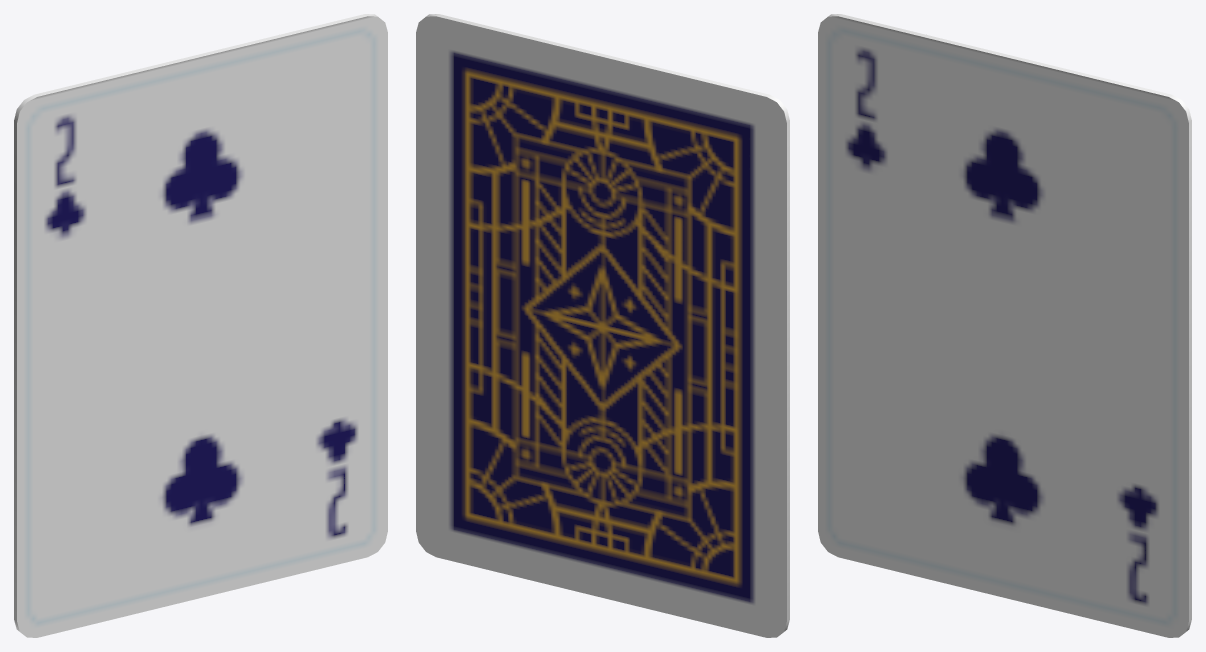
Rendered from card_base.fbx.
3 views of the same model, side by side, from view 1: azimuth 30°, elevation 25°; view 2: azimuth 150°, elevation 25°; view 3: azimuth 330°, elevation 25° (orthographic).
Parts seen in each view (by area): view 1: card_base; view 2: card_base; view 3: card_base.
Part boxes in pixels (box(x1,y1,x2,y2)): card_base: box(14, 14, 387, 637); card_base: box(416, 14, 789, 637); card_base: box(818, 14, 1191, 637).
Size of the model in its own units: 0.1076 by 0.15 by 0.00156.
Materials: 2 (2 with a texture image).
